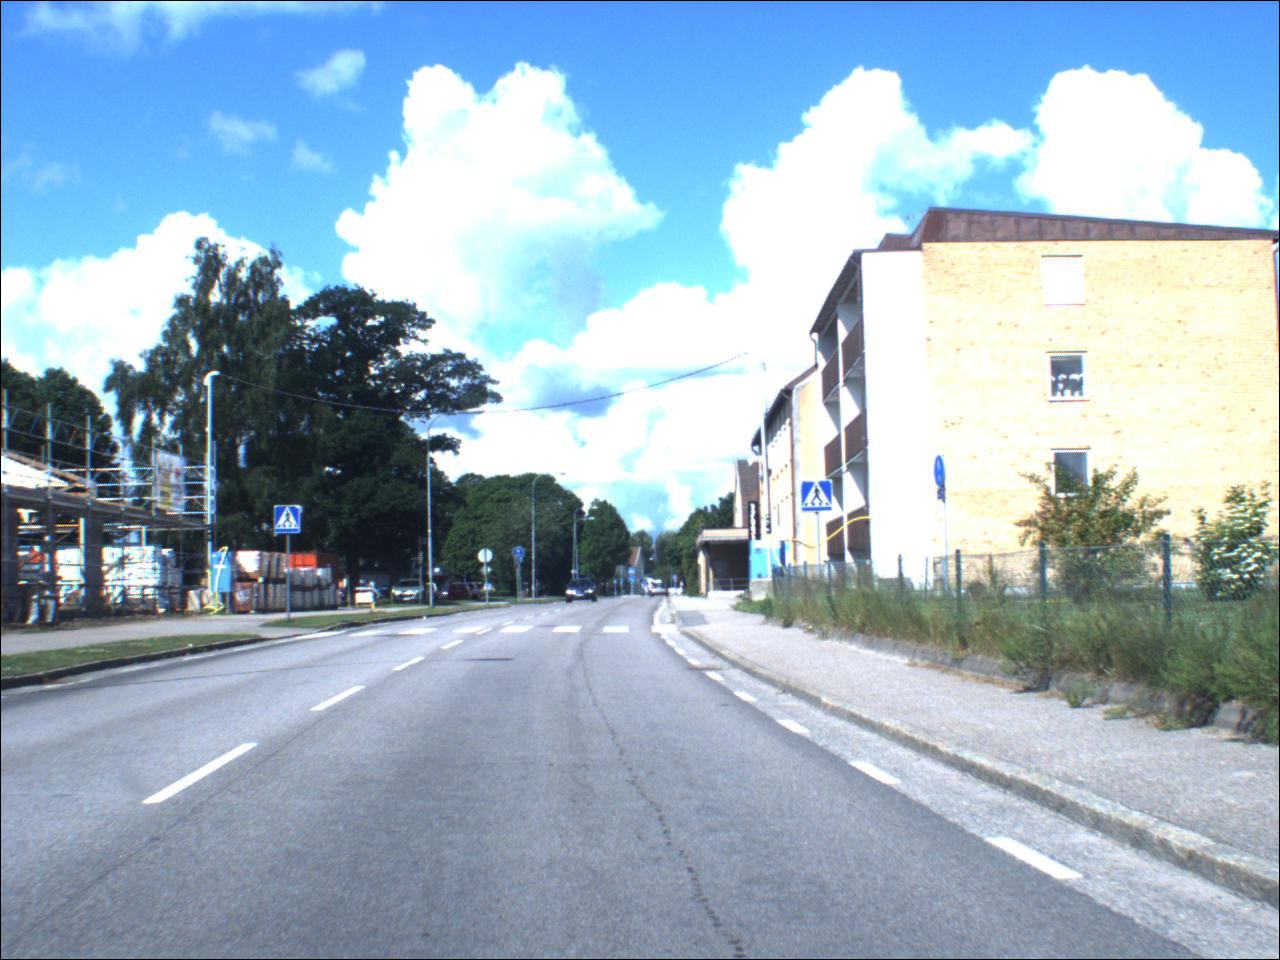PASS_RIGHT_SIDE: (630, 577, 637, 585)
PEDESTRIAN_CROSSING: (803, 481, 835, 515), (276, 506, 305, 538), (630, 568, 639, 577)
